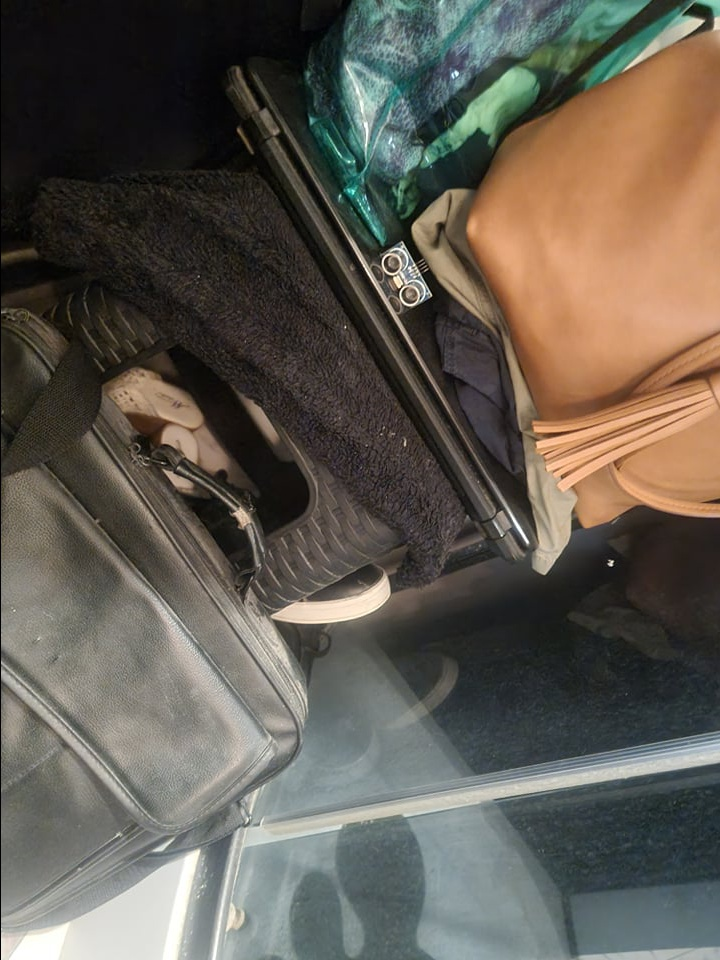SENSOR: (378, 239, 431, 309)
